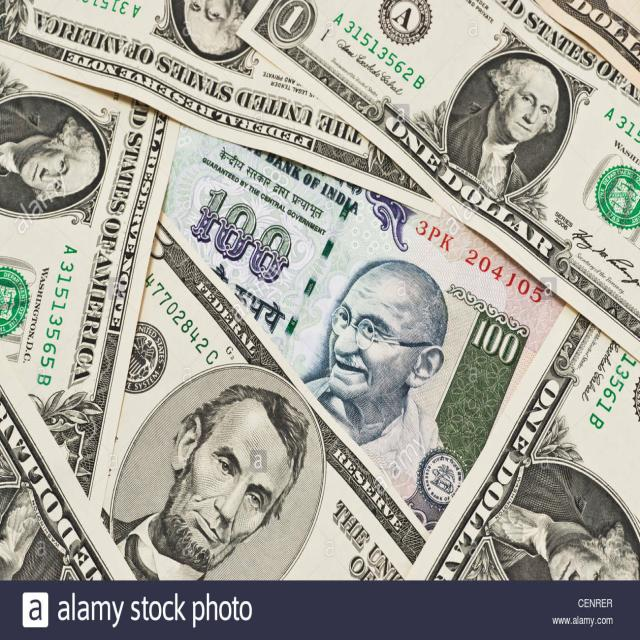100IndianRupees: (200, 122, 526, 514)
